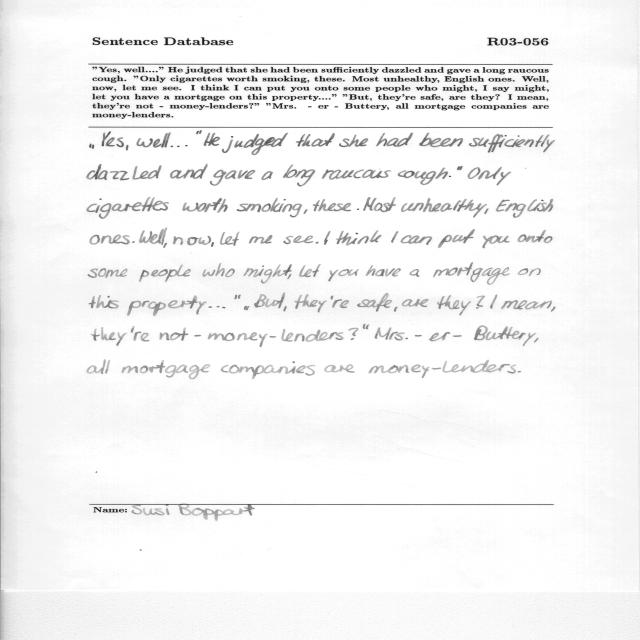word: (369, 361, 517, 378), (208, 329, 344, 347), (87, 197, 169, 219), (433, 263, 510, 285), (221, 361, 315, 379), (469, 134, 555, 153), (401, 198, 487, 217), (121, 361, 210, 379), (127, 296, 207, 316), (222, 133, 288, 155), (474, 325, 536, 346), (237, 198, 302, 217), (87, 164, 162, 180), (496, 199, 553, 218), (139, 265, 191, 282), (398, 168, 448, 185), (468, 167, 511, 185), (322, 169, 391, 180), (210, 170, 255, 186), (336, 230, 381, 246), (437, 295, 471, 316), (283, 165, 315, 187), (438, 229, 475, 248), (183, 198, 228, 213), (357, 293, 392, 312), (93, 327, 127, 346), (294, 294, 327, 313), (419, 133, 463, 147), (170, 164, 208, 179), (136, 132, 171, 148), (296, 133, 335, 147), (376, 133, 413, 147), (313, 199, 351, 212), (139, 228, 167, 245), (254, 293, 285, 308), (363, 198, 396, 212), (202, 263, 235, 277), (501, 300, 552, 309), (518, 230, 553, 243), (90, 234, 130, 245), (366, 265, 401, 277), (90, 295, 119, 309), (160, 327, 189, 341), (88, 268, 128, 278), (482, 236, 510, 249), (102, 132, 124, 148), (339, 135, 368, 147), (173, 236, 211, 245), (401, 235, 433, 245), (220, 231, 240, 246), (273, 264, 293, 279), (87, 361, 110, 374), (131, 326, 150, 341), (324, 364, 355, 373), (284, 236, 313, 245), (330, 296, 349, 308), (375, 327, 392, 340), (402, 299, 429, 307), (204, 133, 220, 146), (249, 235, 272, 244), (429, 332, 450, 341), (518, 268, 541, 276), (244, 268, 264, 277), (261, 269, 273, 284), (389, 332, 408, 341), (299, 265, 312, 277), (338, 269, 359, 276), (348, 328, 359, 340), (328, 270, 339, 281), (312, 264, 321, 277), (476, 296, 485, 309), (261, 171, 273, 180), (490, 294, 497, 309), (324, 231, 331, 245), (391, 231, 399, 243), (410, 269, 420, 277), (209, 306, 226, 308), (484, 208, 489, 214), (363, 325, 369, 330), (303, 209, 308, 214), (457, 166, 463, 170), (244, 306, 250, 310), (283, 306, 287, 312), (394, 306, 398, 312), (551, 306, 555, 312), (90, 144, 94, 149), (163, 243, 167, 248), (534, 338, 538, 343), (126, 145, 129, 151), (196, 131, 202, 134), (453, 335, 462, 337), (211, 242, 214, 247), (235, 295, 238, 300), (238, 294, 241, 299), (415, 335, 422, 337), (195, 335, 201, 337), (171, 146, 180, 147), (132, 241, 135, 243), (316, 242, 319, 244), (357, 208, 359, 210), (262, 265, 264, 267), (185, 145, 188, 146), (518, 371, 521, 372), (449, 176, 451, 177)
